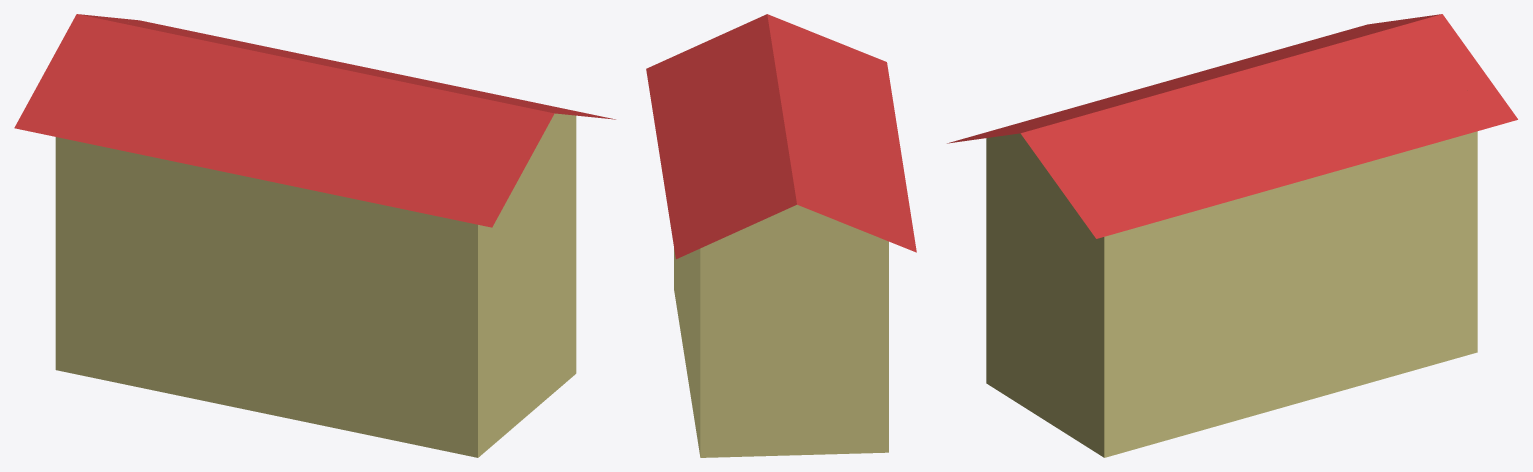
3 views of the same model, side by side, from view 1: azimuth 30°, elevation 25°; view 2: azimuth 150°, elevation 25°; view 3: azimuth 270°, elevation 25° (orthographic). The views are drawn at different scales.
Visible parts, largest first — view 1: group_5, group_3, group_4; view 2: group_5, group_3, group_4; view 3: group_5, group_3, group_4.
Part boxes in pixels (box(x1,y1,x2,y2)): group_5: box(55, 113, 576, 457); group_3: box(14, 14, 615, 227); group_4: box(77, 14, 598, 226); group_5: box(674, 205, 888, 457); group_3: box(646, 14, 916, 252); group_4: box(646, 14, 886, 259); group_5: box(986, 131, 1477, 457); group_3: box(951, 14, 1477, 238); group_4: box(947, 14, 1517, 238).
Size of the model in its own units: 17.24 by 19.45 by 11.01.
